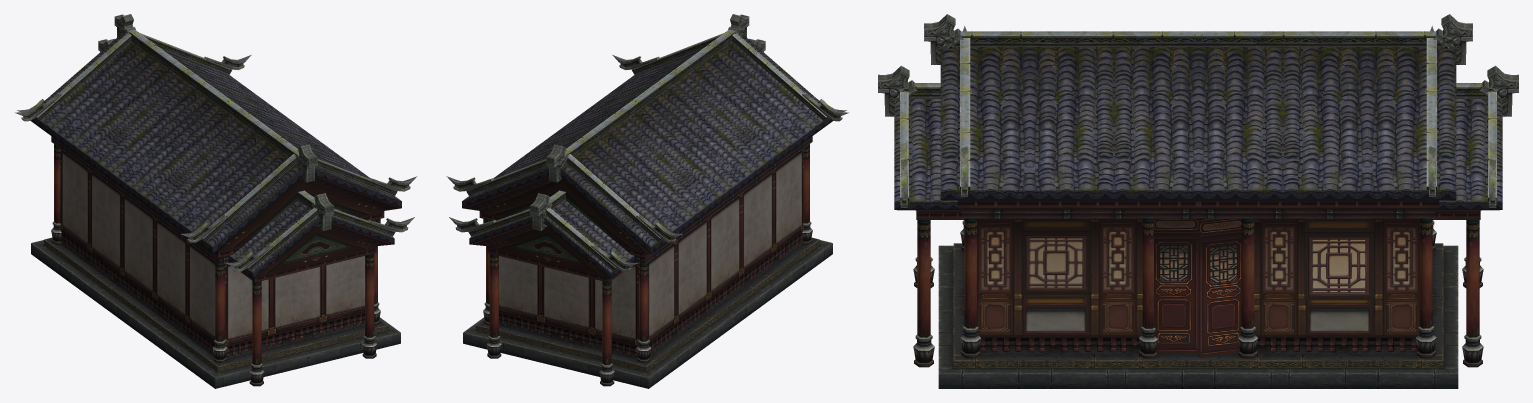
The model's file is HYC_jianzhu_07.FBX.
3 renders of one model, left to right at view 1: azimuth 30°, elevation 25°; view 2: azimuth 150°, elevation 25°; view 3: azimuth 270°, elevation 25°, orthographic. The views are drawn at different scales.
Parts seen in each view (by area): view 1: HYC_jianzhu_07; view 2: HYC_jianzhu_07; view 3: HYC_jianzhu_07.
Part boxes in pixels (x1,y1,x2,y2): HYC_jianzhu_07: (15,14,417,388); HYC_jianzhu_07: (446,14,848,388); HYC_jianzhu_07: (878,14,1518,388).
Size of the model in its own units: 725 by 637 by 1201.
